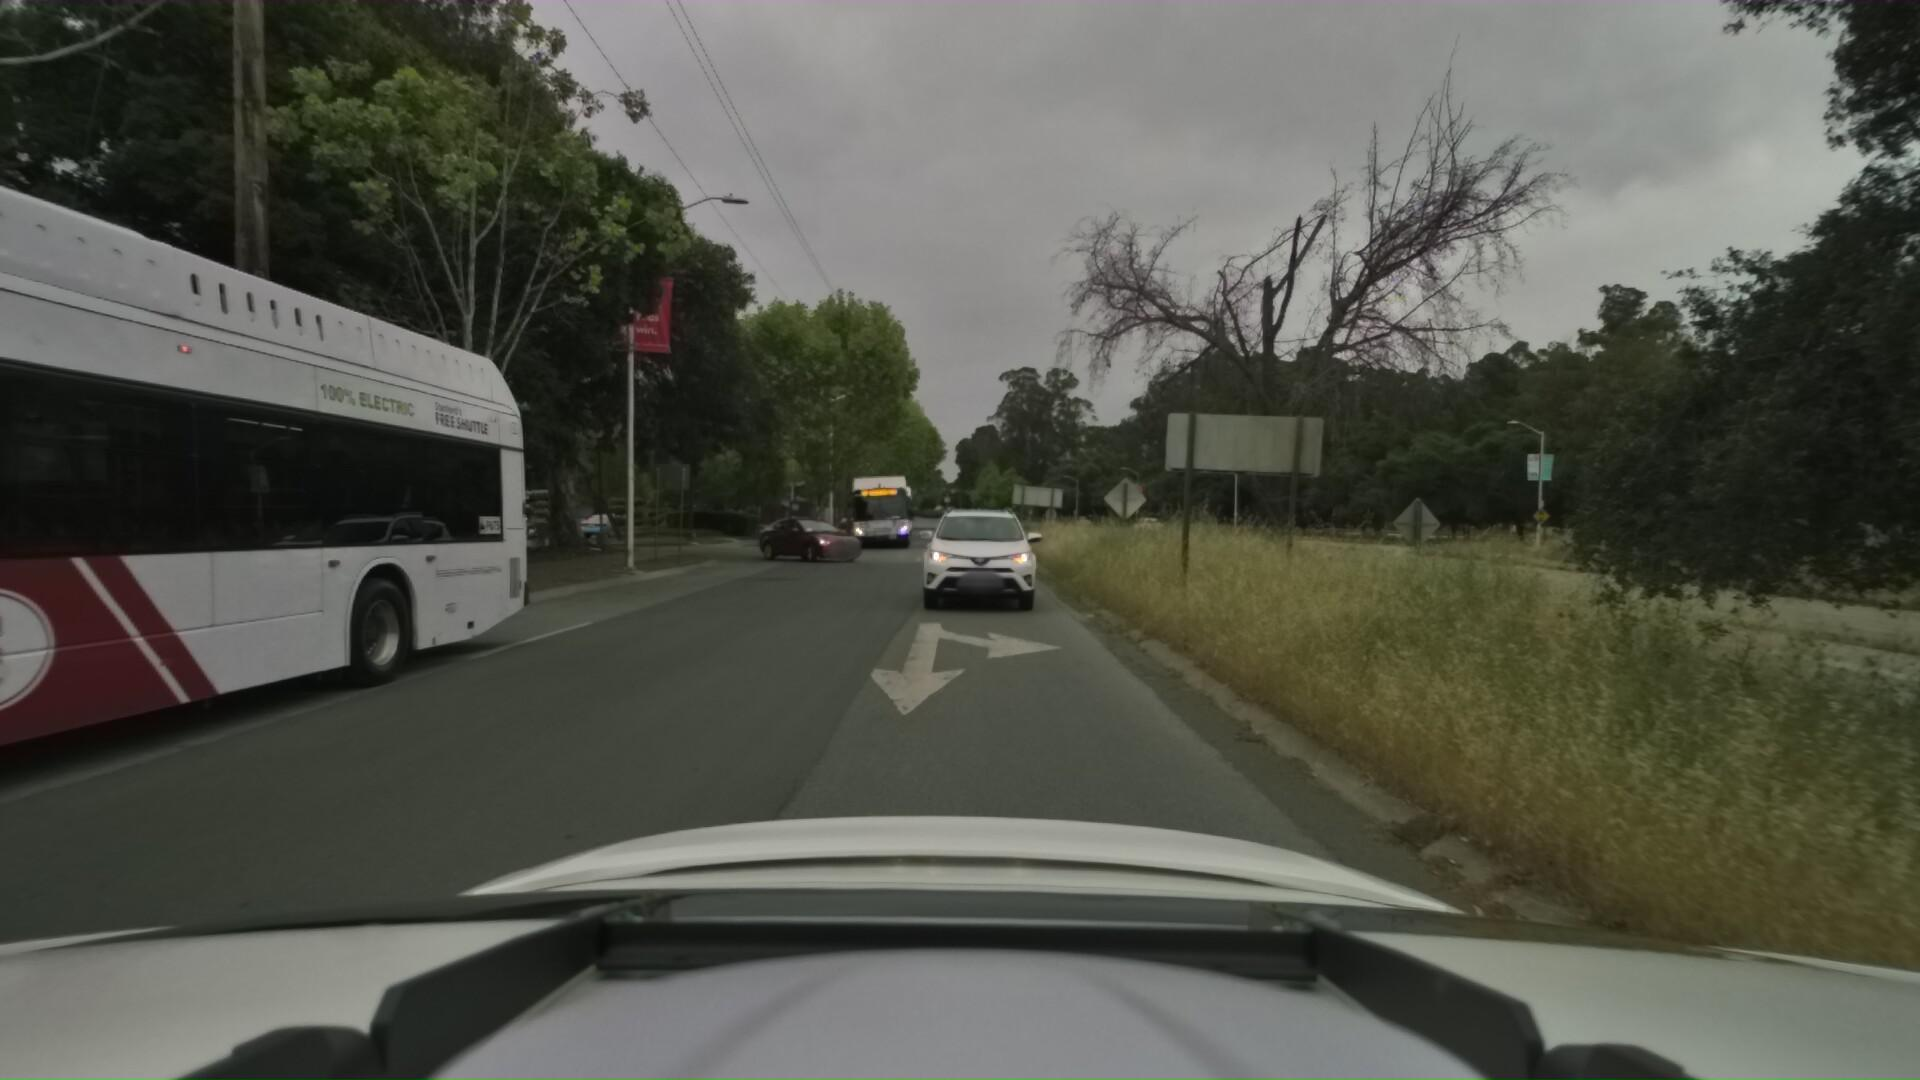bus: (0, 0, 597, 1080), (849, 469, 916, 555), (866, 479, 916, 541)
car: (906, 495, 1054, 618), (754, 513, 870, 566), (576, 506, 654, 535)
